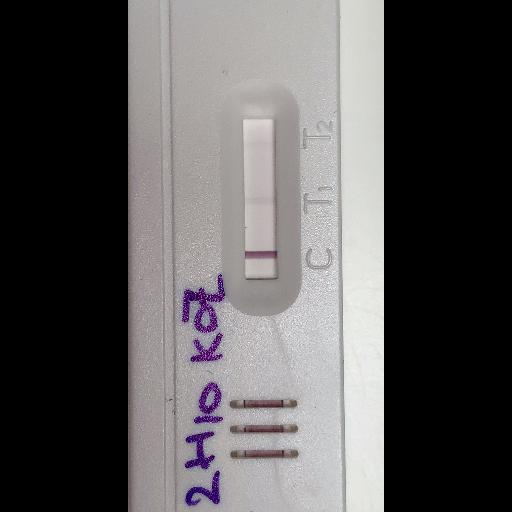Pos: (127, 0, 345, 509)
